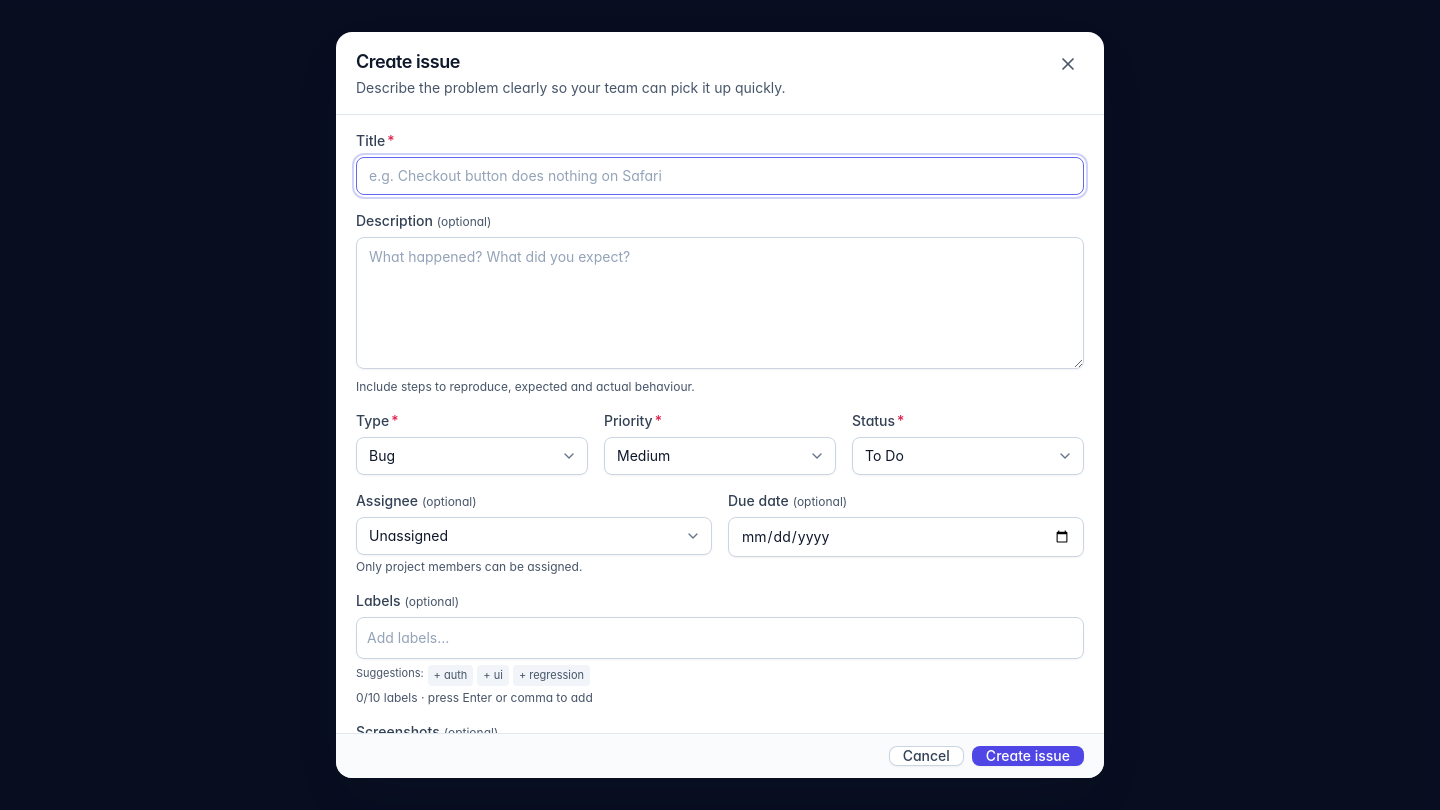
Scenario: IssueFormModal › rejects titles shorter than three characters without calling the API
In the field labelled "Title*": (720, 176) [356,157,1084,195], type "ab"
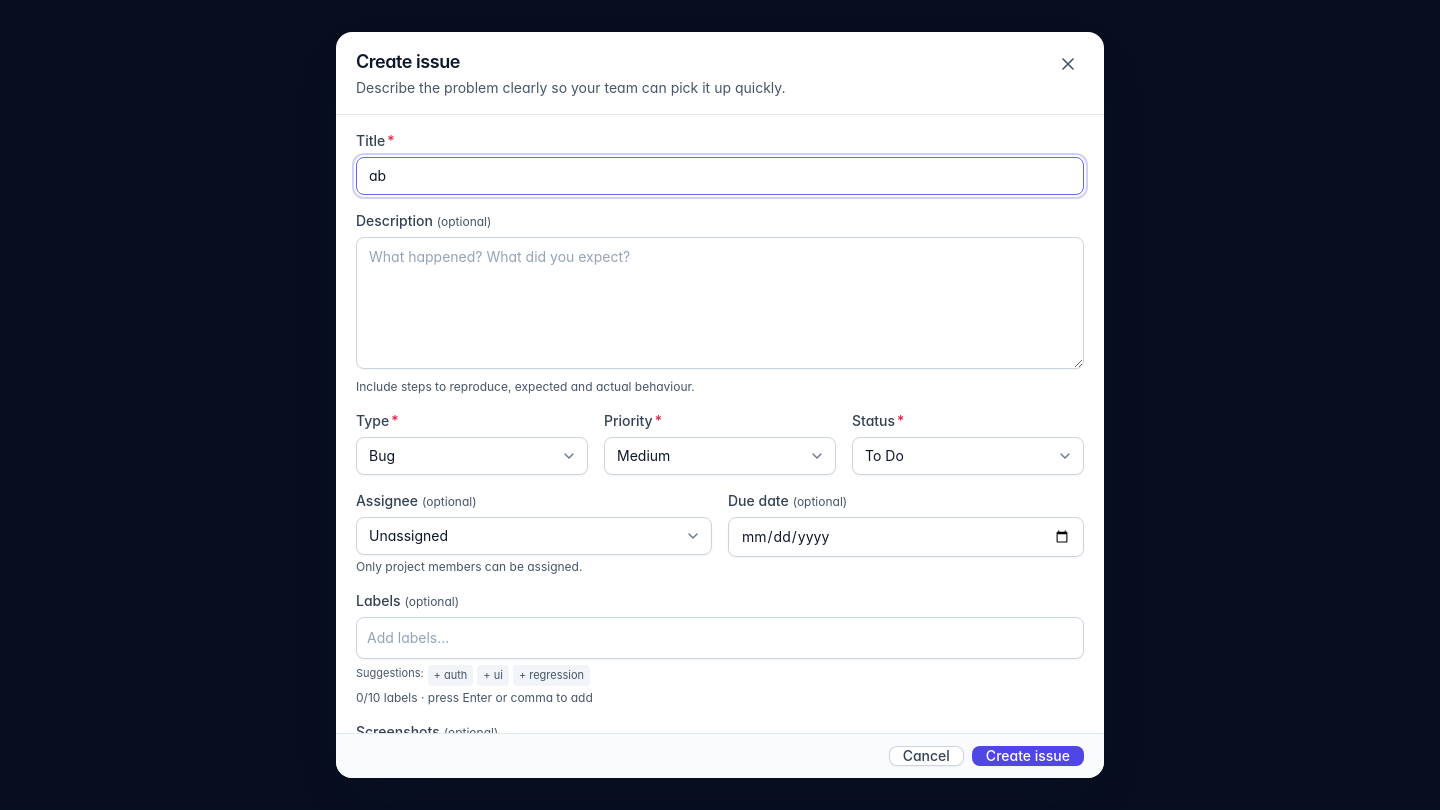
Click the button "Create issue": (1028, 756) [972,746,1084,766]
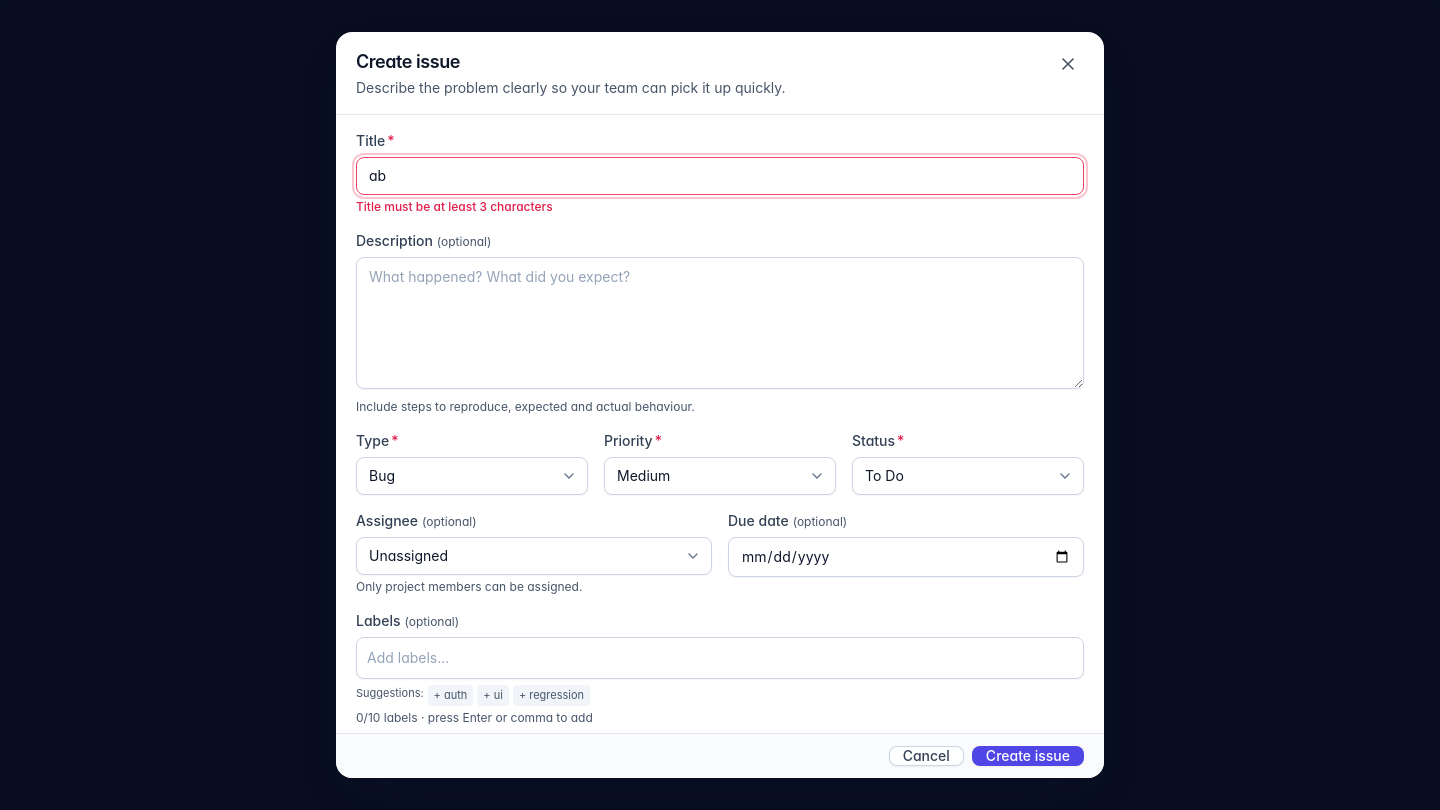
Check: the text "Title must be at least 3 characters" is shown, box [356,199,553,214]
